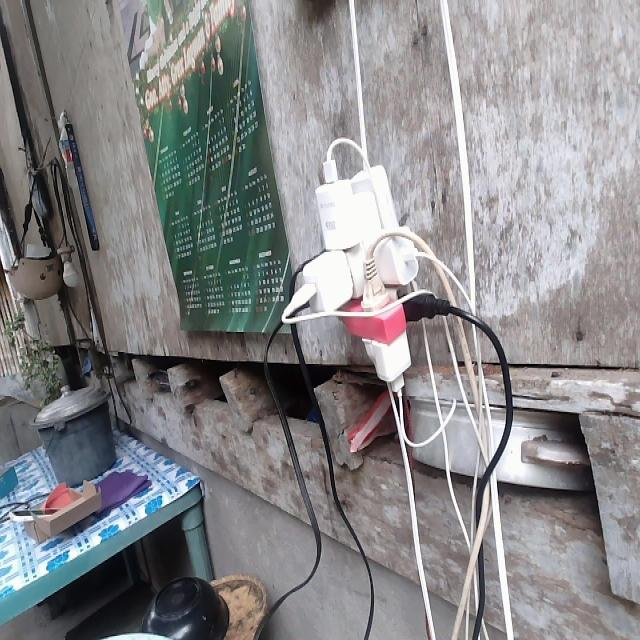-: (289, 163, 435, 392)
